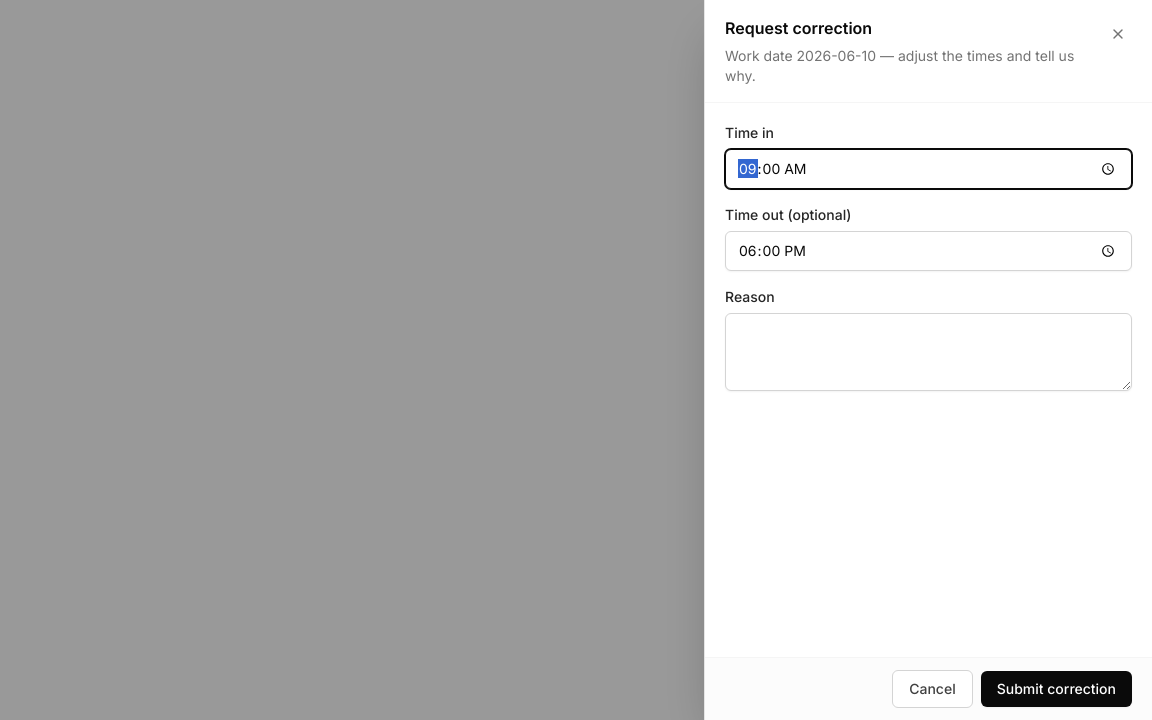
Test: RequestCorrectionDrawer › requires a reason before submitting
Click the button "Submit correction" at (1056,689), box [981,671,1132,707]
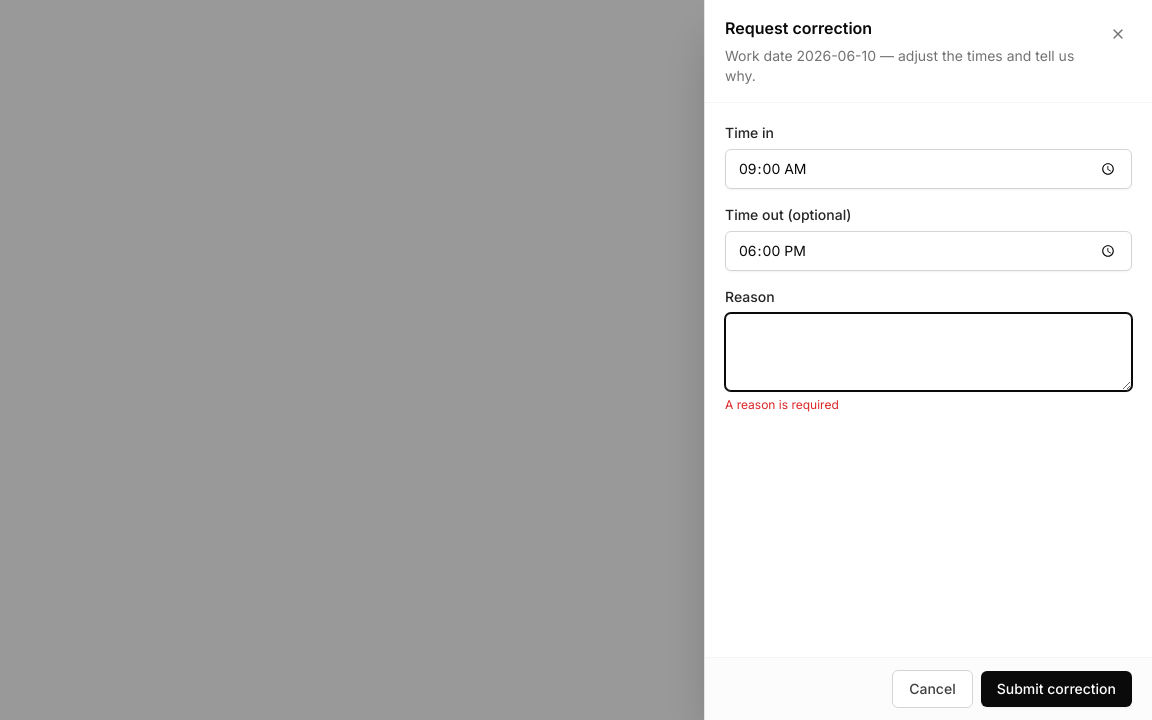
Now the text "A reason is required" is shown, box [725,397,839,412]
